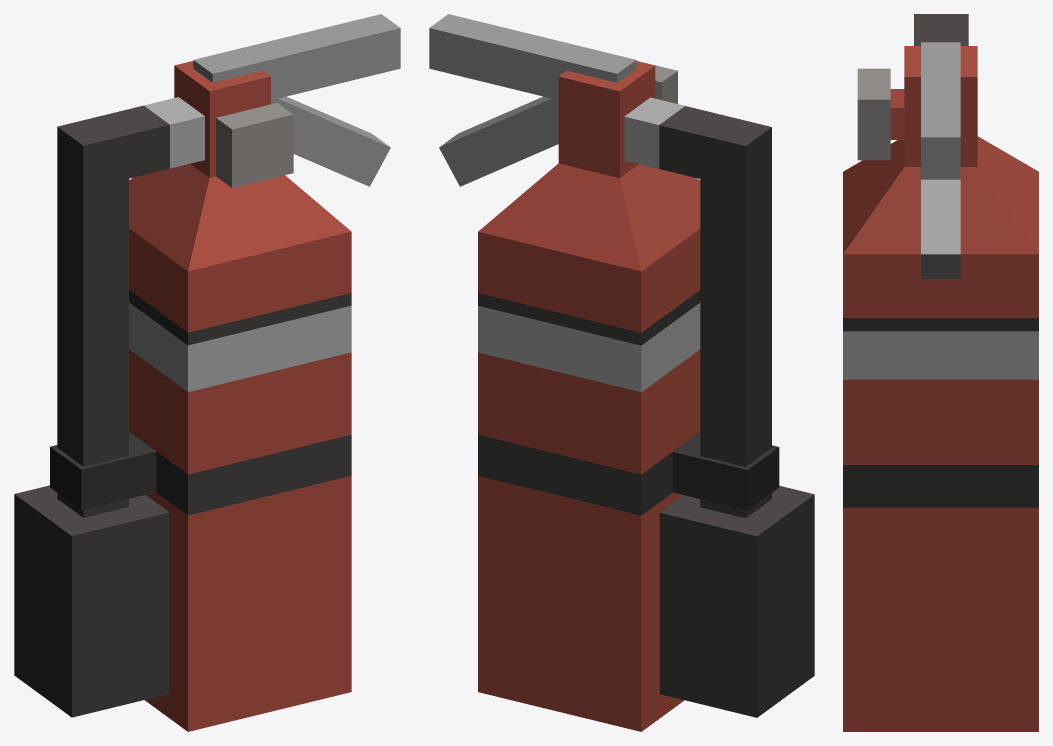
The model's file is SO_FireExtinguisher.fbx.
3 renders of one model, left to right at view 1: azimuth 30°, elevation 25°; view 2: azimuth 150°, elevation 25°; view 3: azimuth 270°, elevation 25°, orthographic. The views are drawn at different scales.
Visible parts, largest first — view 1: SO_FireExtinguisher; view 2: SO_FireExtinguisher; view 3: SO_FireExtinguisher.
Boxes of the visible parts, <box> form: SO_FireExtinguisher: <box>14,14,400,731</box>; SO_FireExtinguisher: <box>429,14,814,731</box>; SO_FireExtinguisher: <box>843,14,1038,731</box>.
Size of the model in its own units: 0.6409 by 1.08 by 0.3016.
